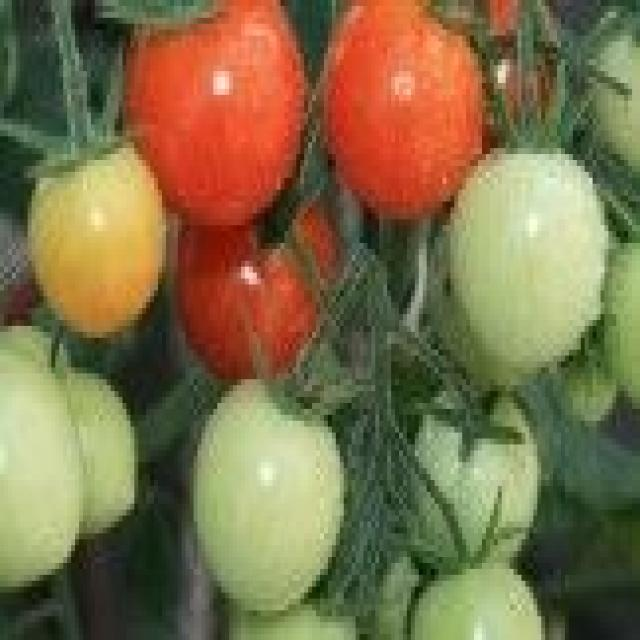level 2: (432, 148, 616, 404), (183, 375, 343, 610), (384, 374, 562, 574), (0, 338, 87, 598), (39, 360, 145, 556), (398, 562, 554, 640), (578, 11, 640, 206), (0, 303, 84, 396), (606, 232, 640, 433), (202, 602, 366, 640)
level 3: (9, 143, 178, 330)
level 5: (116, 7, 314, 229), (317, 0, 493, 232)
level 6: (165, 186, 353, 370)
